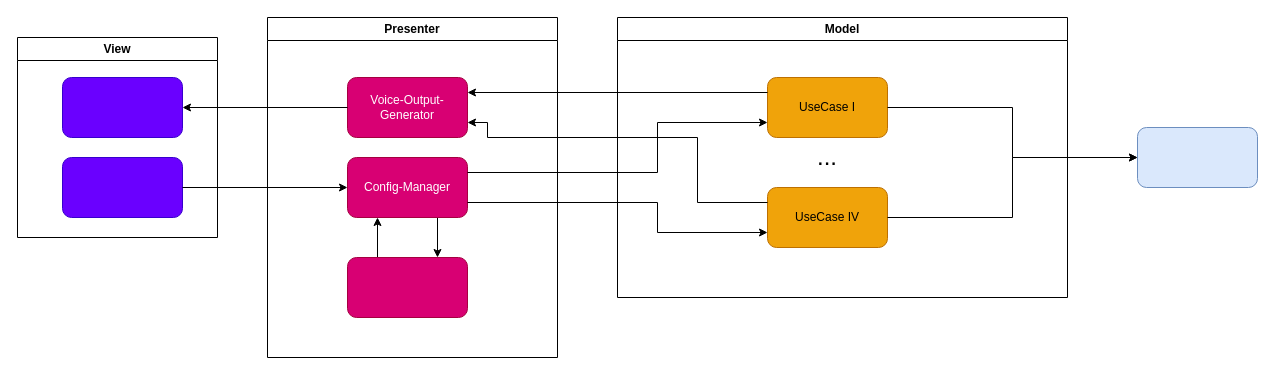
The diagram is 1275 pixels wide and 375 high, and some of its shapes have lost their labels. The shapes that lost their labels are listed below. From the top down, each one's centre as x and y in pixels, then its label:
At [122,107]: "Voice-Output-Player".
At [1197,157]: "Public APIs (GoogleMaps, GoogleCalendar, ...)".
At [122,187]: "PyQT5".
At [407,287]: "Config Dateien".
